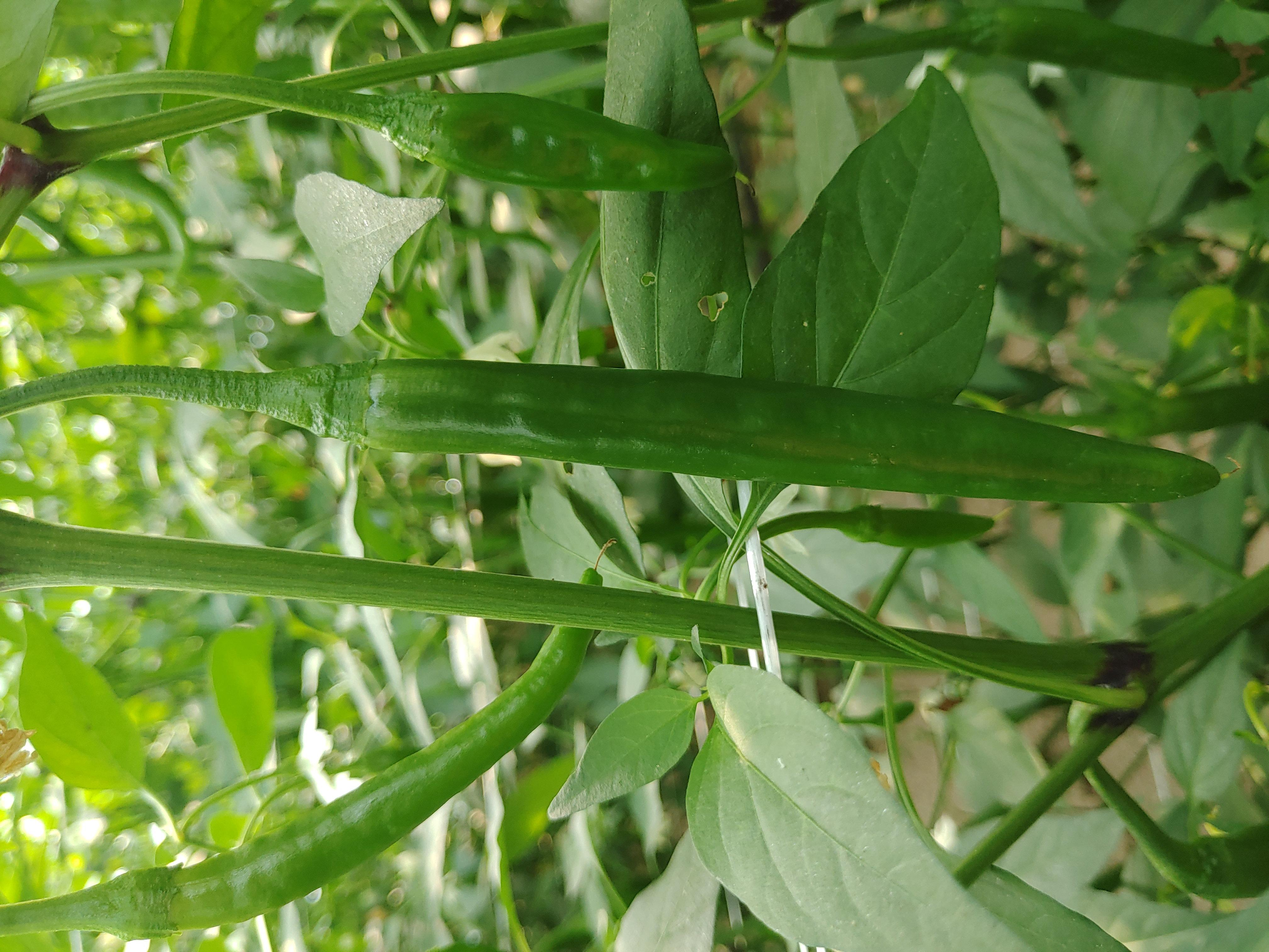Buah Cabai Sehat: (90, 565, 608, 945), (275, 355, 1225, 506), (402, 92, 738, 195)
Daun Cabai Sehat: (681, 655, 1044, 952), (735, 62, 1001, 403)
